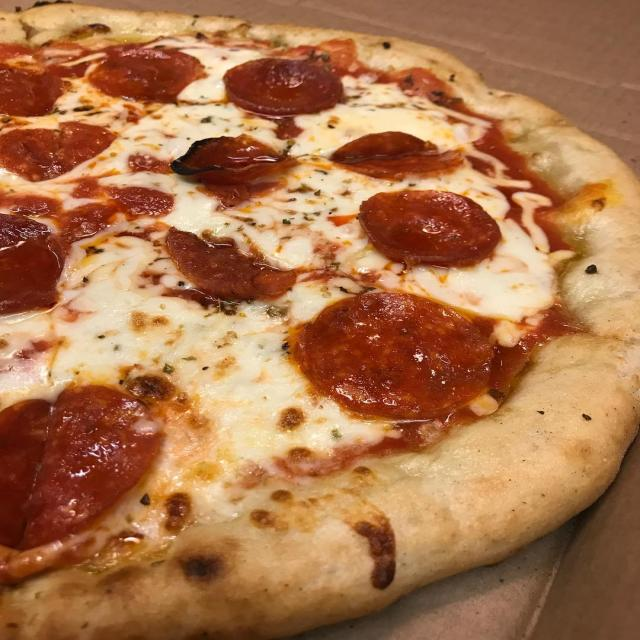pepperoni: (0, 385, 162, 548), (292, 292, 495, 420), (359, 190, 501, 266), (167, 228, 297, 300), (224, 59, 344, 117), (89, 44, 203, 102), (331, 132, 464, 180), (69, 190, 177, 242), (0, 238, 62, 313), (170, 135, 286, 175), (0, 128, 70, 181), (0, 67, 62, 116), (0, 214, 50, 248)
pizza: (0, 4, 637, 639)
